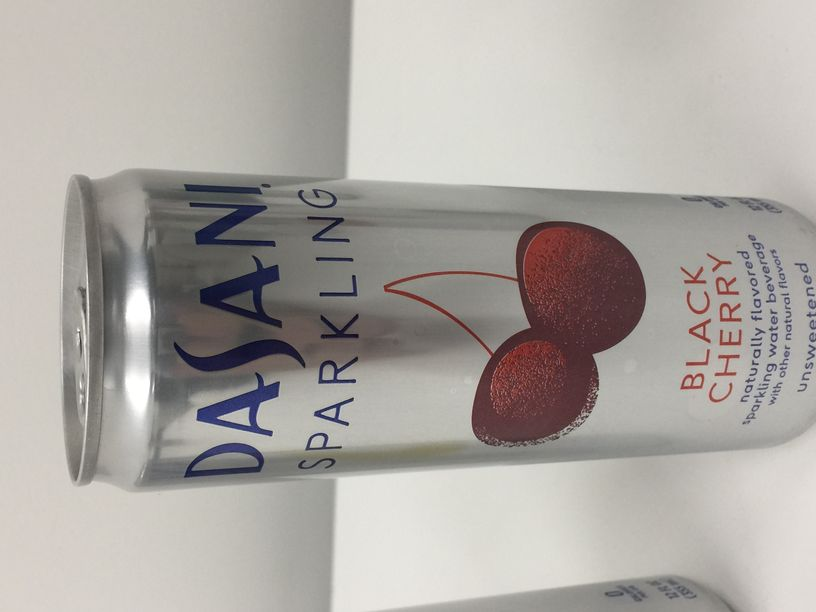blackcherry: (59, 168, 816, 491)
